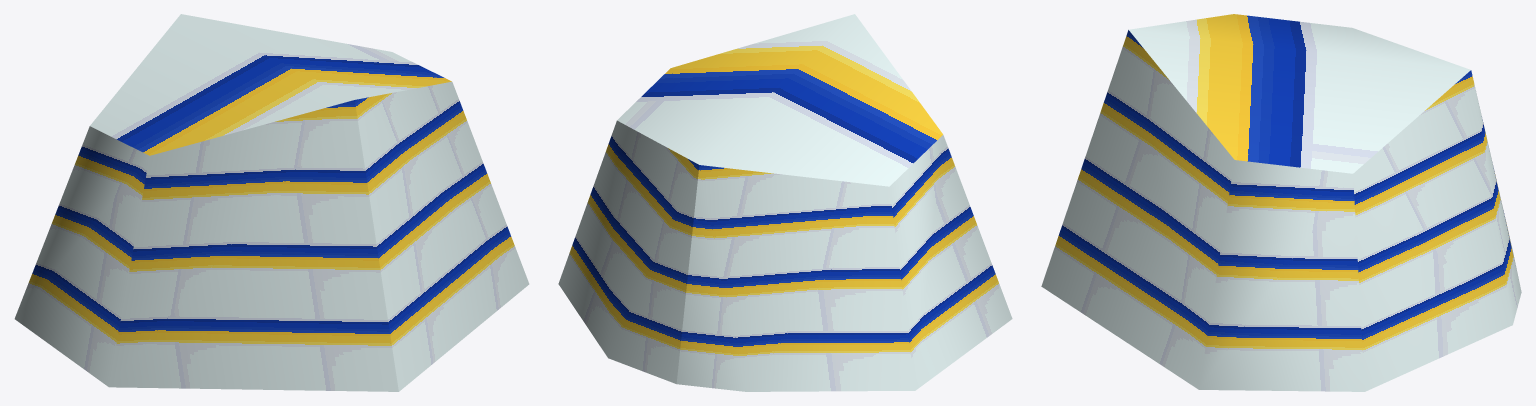
File: 2869head064_c.gltf
3 views of the same model, side by side, from view 1: azimuth 30°, elevation 25°; view 2: azimuth 150°, elevation 25°; view 3: azimuth 270°, elevation 25° (orthographic). The views are drawn at different scales.
Visible parts, largest first — view 1: 2869head064_c; view 2: 2869head064_c; view 3: 2869head064_c.
Part boxes in pixels (x1,y1,x2,y2): 2869head064_c: (14, 14, 529, 391); 2869head064_c: (558, 14, 1012, 391); 2869head064_c: (1041, 14, 1521, 391).
Bounding box in the file's own units: 0.8208 × 0.502 × 0.8208.
Materials: 1 (1 with a texture image).
